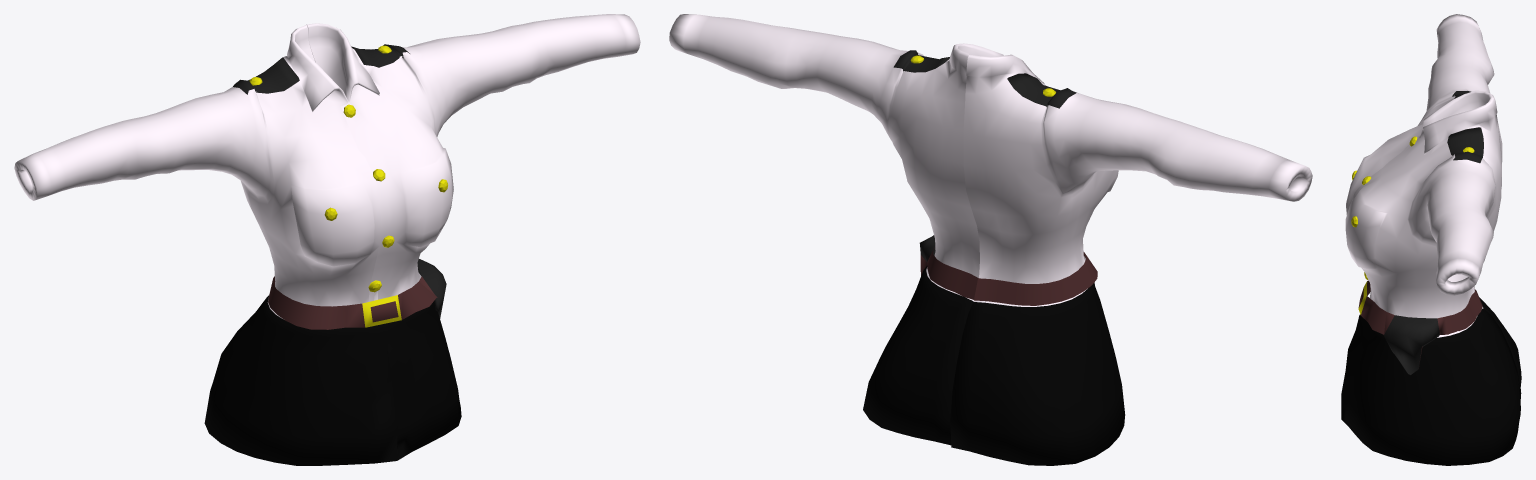
3 views of the same model, side by side, from view 1: azimuth 30°, elevation 25°; view 2: azimuth 150°, elevation 25°; view 3: azimuth 270°, elevation 25° (orthographic). The views are drawn at different scales.
Parts seen in each view (by area): view 1: poriseifuku; view 2: poriseifuku; view 3: poriseifuku.
Part boxes in pixels (x1,y1,x2,y2): poriseifuku: (14,14,640,465); poriseifuku: (669,14,1312,465); poriseifuku: (1341,14,1521,465).
Bounding box in the file's own units: 0.8531 × 0.5044 × 0.2561.
